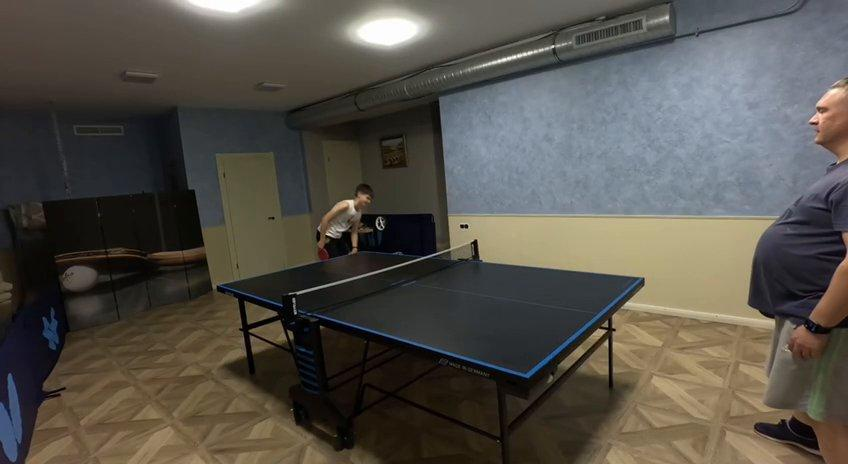Net: (280, 241, 481, 325)
Player1: (318, 184, 373, 253)
Player2: (748, 77, 847, 463)
Table: (220, 250, 640, 376)
